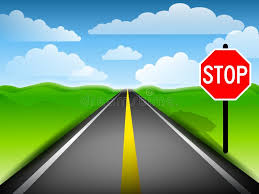stop sign: (199, 48, 250, 101)
